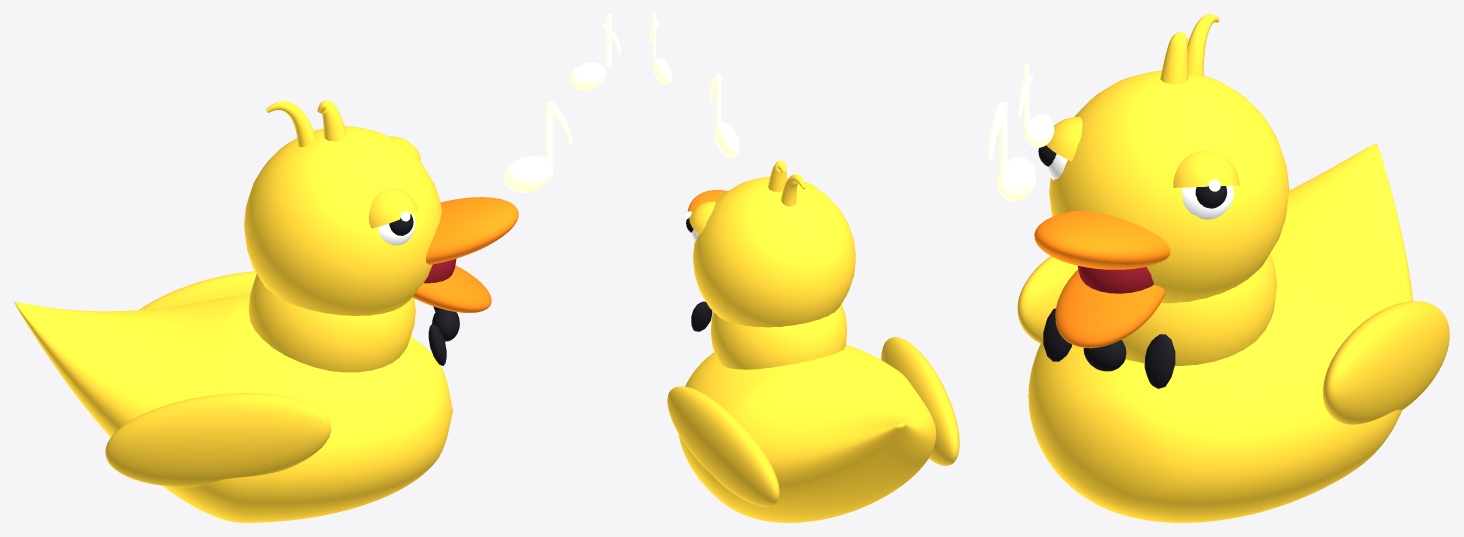
Rendered from pato.glb.
3 renders of one model, left to right at view 1: azimuth 30°, elevation 25°; view 2: azimuth 150°, elevation 25°; view 3: azimuth 270°, elevation 25°, orthographic. The views are drawn at different scales.
Parts seen in each view (by area): view 1: pato_cuerpo, pato_cabeza, pato_ala_dcha, pato_cuello, pato_pico, pato_pico_bajo, pato_nota_1, pato_ala_izq, pato_parpado_dcha, pato_nota_2, pato_tupe_2, pato_tupe_1; view 2: pato_cuerpo, pato_cabeza, pato_ala_izq, pato_cuello, pato_ala_dcha, pato_nota_1, pato_nota_2, pato_parpado_izq, pato_pajarita_izq, pato_tupe_2, pato_tupe_1, pato_pico; view 3: pato_cuerpo, pato_cabeza, pato_ala_izq, pato_cuello, pato_pico, pato_pico_bajo, pato_ala_dcha, pato_nota_1, pato_parpado_izq, pato_boca, pato_nota_2, pato_pajarita_izq (+7 smaller).
Part boxes in pixels (left/top/right/bottom): pato_cuerpo: left=14, top=295, right=452, bottom=522; pato_cabeza: left=244, top=126, right=441, bottom=315; pato_ala_dcha: left=105, top=393, right=331, bottom=487; pato_cuello: left=248, top=274, right=415, bottom=372; pato_pico: left=426, top=197, right=518, bottom=264; pato_pico_bajo: left=412, top=265, right=491, bottom=312; pato_nota_1: left=504, top=101, right=572, bottom=192; pato_ala_izq: left=139, top=271, right=256, bottom=309; pato_parpado_dcha: left=368, top=188, right=417, bottom=228; pato_nota_2: left=569, top=14, right=620, bottom=90; pato_tupe_2: left=266, top=101, right=315, bottom=146; pato_tupe_1: left=317, top=100, right=346, bottom=141; pato_cuerpo: left=678, top=344, right=935, bottom=522; pato_cabeza: left=693, top=176, right=855, bottom=327; pato_ala_izq: left=667, top=386, right=779, bottom=506; pato_cuello: left=711, top=304, right=846, bottom=369; pato_ala_dcha: left=881, top=337, right=959, bottom=465; pato_nota_1: left=709, top=73, right=739, bottom=157; pato_nota_2: left=649, top=14, right=672, bottom=84; pato_parpado_izq: left=689, top=201, right=715, bottom=234; pato_pajarita_izq: left=691, top=301, right=712, bottom=331; pato_tupe_2: left=781, top=174, right=805, bottom=206; pato_tupe_1: left=768, top=160, right=786, bottom=191; pato_pico: left=687, top=190, right=727, bottom=211; pato_cuerpo: left=1028, top=143, right=1412, bottom=522; pato_cabeza: left=1049, top=70, right=1289, bottom=303; pato_ala_izq: left=1323, top=301, right=1449, bottom=424; pato_cuello: left=1121, top=253, right=1276, bottom=365; pato_pico: left=1034, top=210, right=1170, bottom=269; pato_pico_bajo: left=1055, top=269, right=1165, bottom=348; pato_ala_dcha: left=1017, top=256, right=1078, bottom=343; pato_nota_1: left=988, top=102, right=1036, bottom=201; pato_parpado_izq: left=1173, top=151, right=1239, bottom=187; pato_boca: left=1078, top=266, right=1153, bottom=293; pato_nota_2: left=1018, top=64, right=1054, bottom=147; pato_pajarita_izq: left=1144, top=334, right=1175, bottom=388.
Size of the model in its own units: 0.4558 by 0.4582 by 0.3305.
